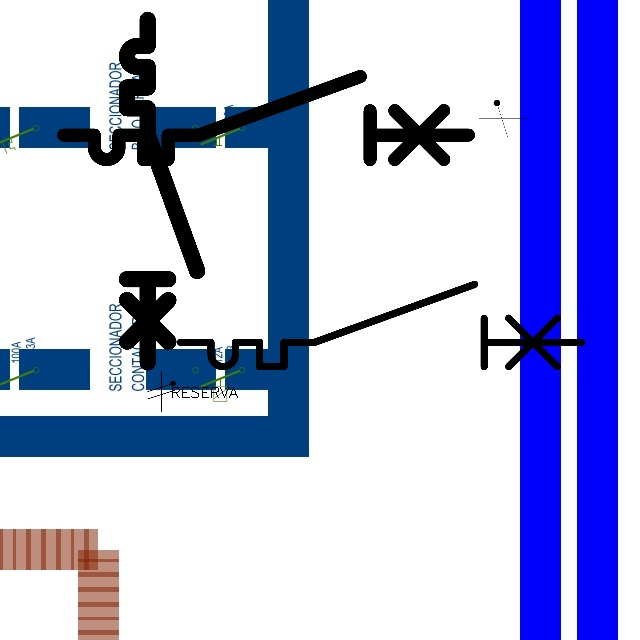interruptor_termomagnetico: (53, 66, 479, 170), (170, 274, 592, 377), (118, 11, 206, 371)
